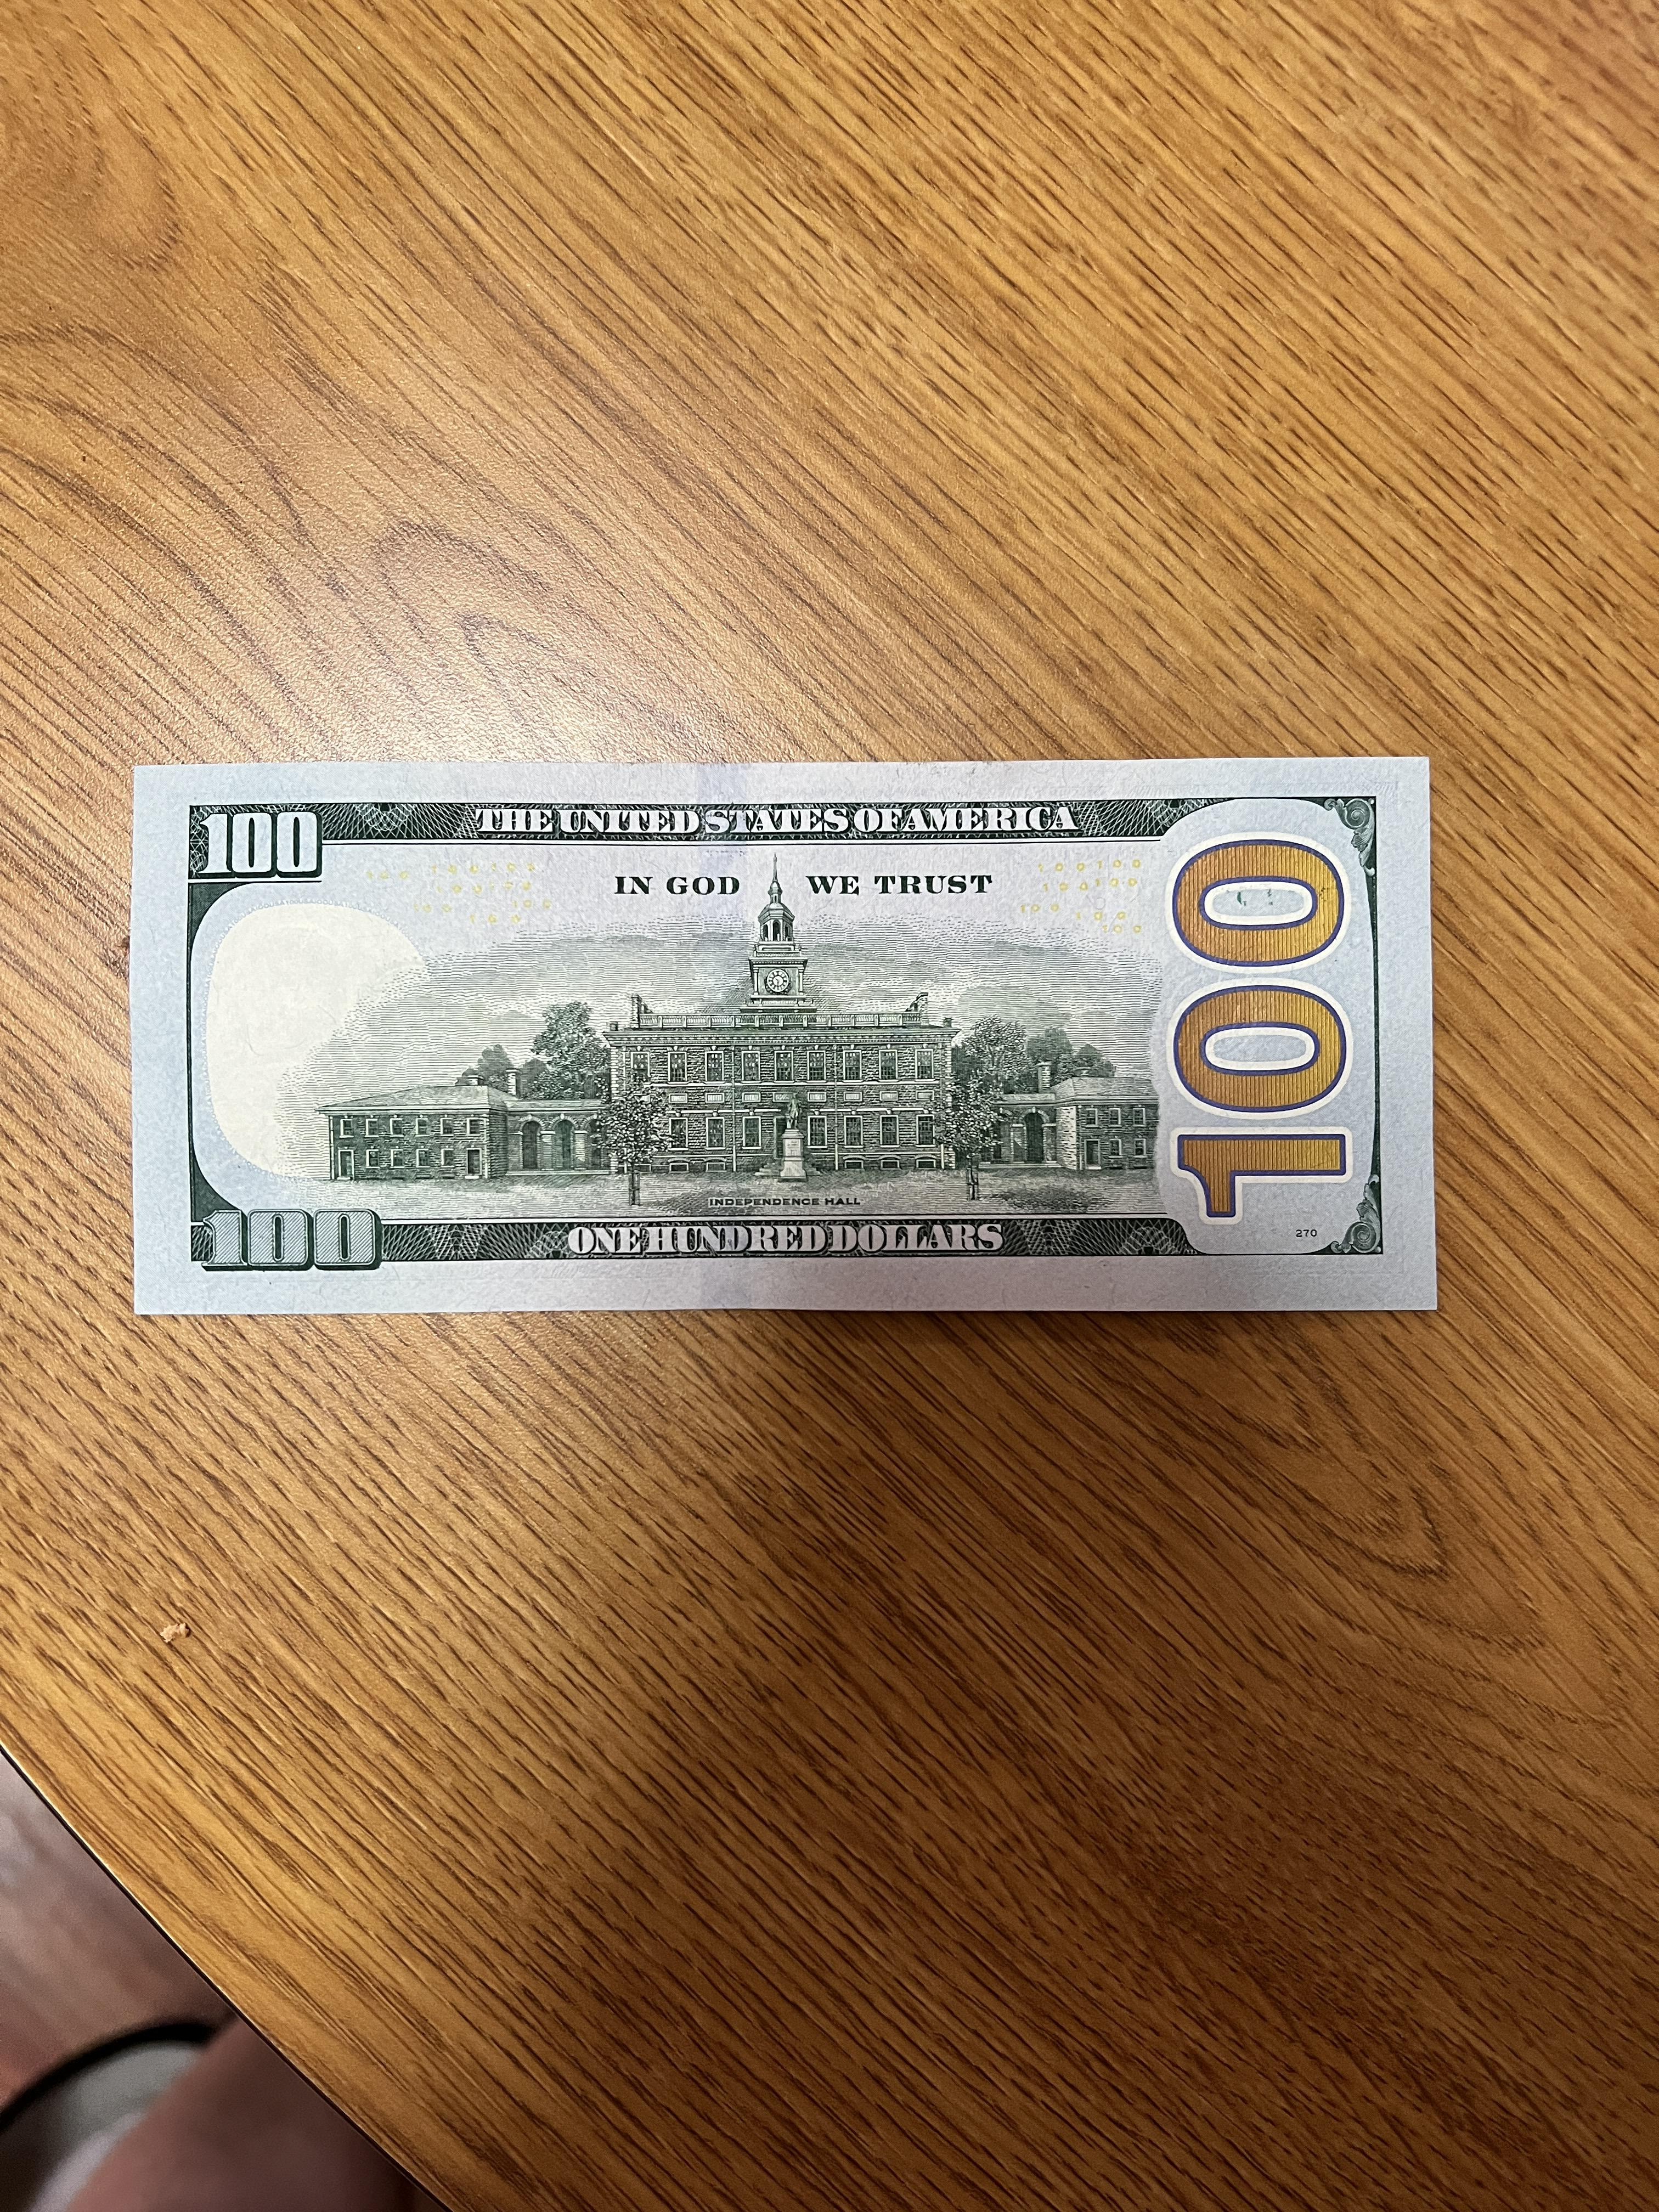HundredBill: (120, 754, 1457, 1312)
